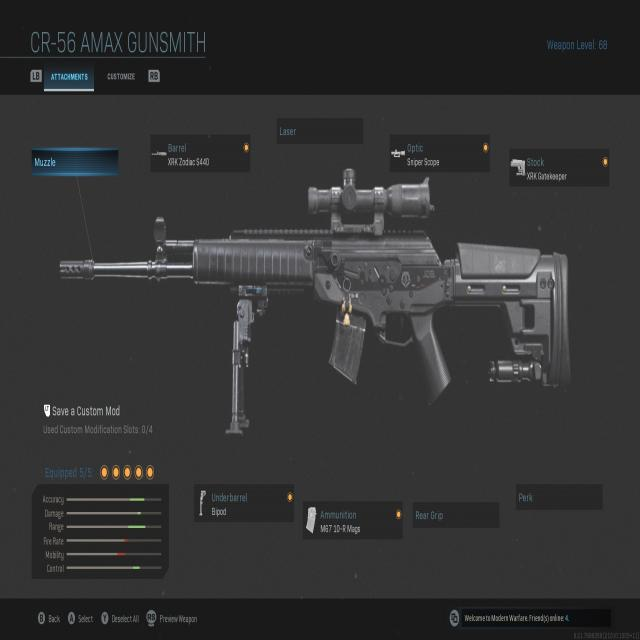Rifle: (60, 171, 570, 400)
